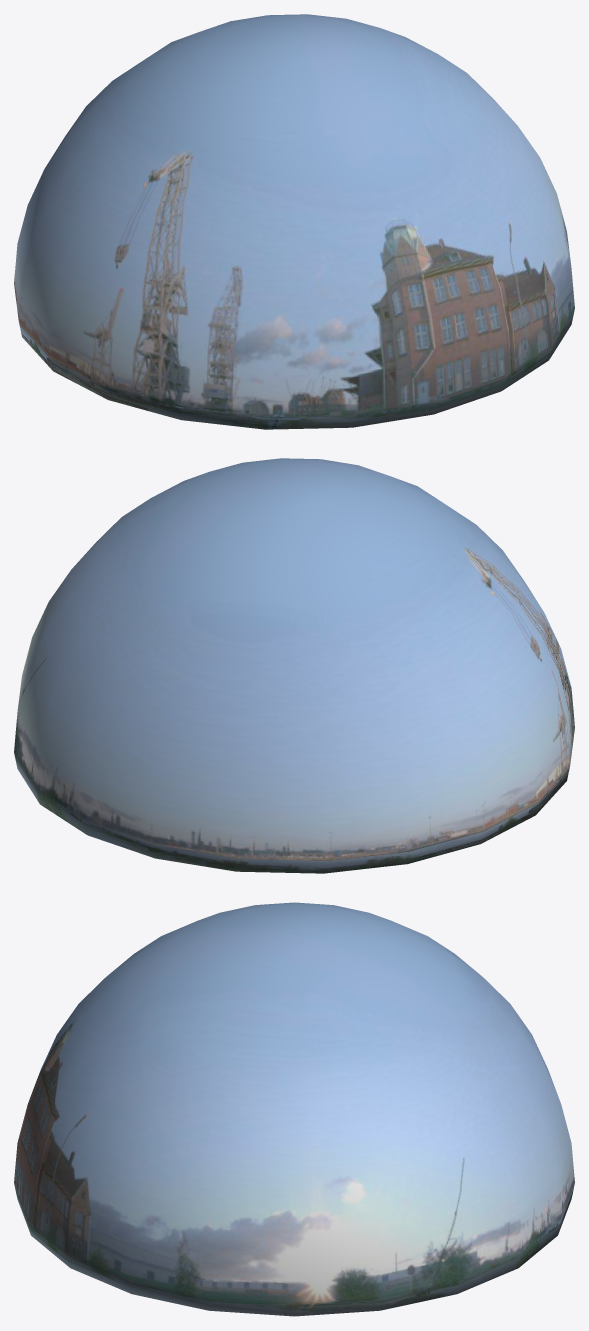
3 views of the same model, one above another, from view 1: azimuth 30°, elevation 25°; view 2: azimuth 150°, elevation 25°; view 3: azimuth 270°, elevation 25° (orthographic).
Parts seen in each view (by area): view 1: pSphere1; view 2: pSphere1; view 3: pSphere1.
Boxes of the visible parts, x1=… form: pSphere1: x1=14, y1=14, x2=574, y2=429; pSphere1: x1=14, y1=458, x2=574, y2=873; pSphere1: x1=14, y1=902, x2=574, y2=1316.
Bounding box in the file's own units: 104 × 55.63 × 104.
1 material, 1 textured.
